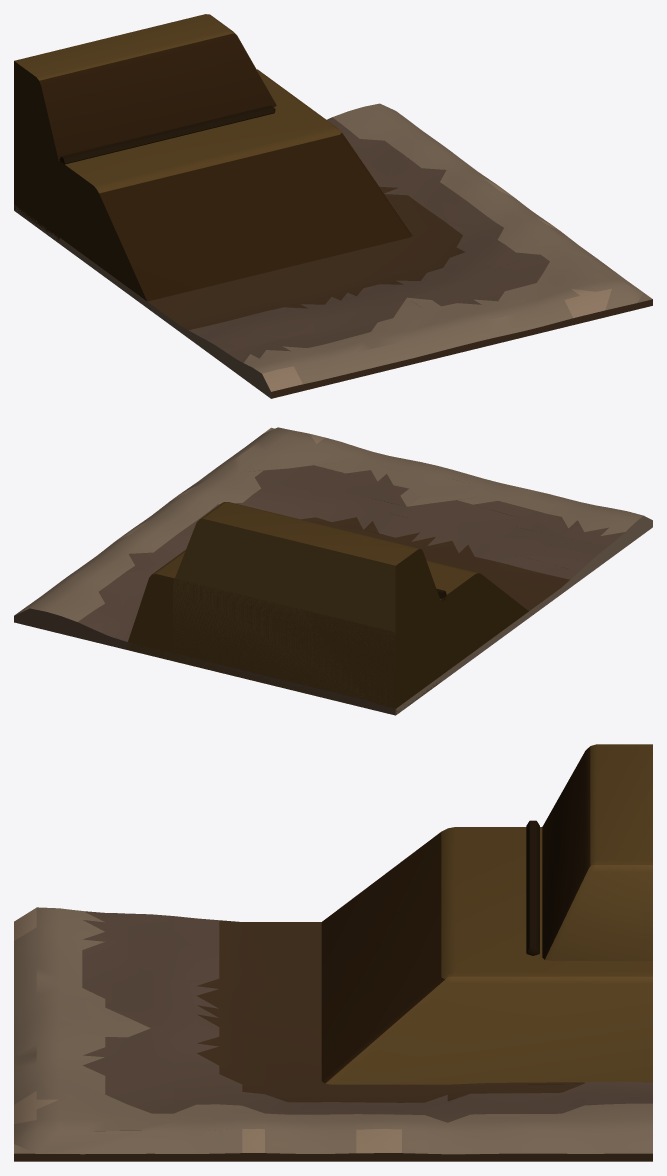
3 renders of one model, top to bottom at view 1: azimuth 30°, elevation 25°; view 2: azimuth 150°, elevation 25°; view 3: azimuth 270°, elevation 25°, orthographic. The views are drawn at different scales.
Parts seen in each view (by area): view 1: pyramid_193_sand, pyramid_193_tier0, pyramid_193_tier1, pyramid_193_course0; view 2: pyramid_193_sand, pyramid_193_tier1, pyramid_193_tier0; view 3: pyramid_193_sand, pyramid_193_tier0, pyramid_193_tier1, pyramid_193_course0.
Boxes of the visible parts, x1,y1,x2,y2 form: pyramid_193_sand: (14, 103, 652, 398); pyramid_193_tier0: (14, 69, 412, 309); pyramid_193_tier1: (14, 14, 276, 241); pyramid_193_course0: (59, 105, 275, 164); pyramid_193_sand: (14, 427, 652, 715); pyramid_193_tier1: (173, 502, 441, 714); pyramid_193_tier0: (125, 550, 533, 714); pyramid_193_sand: (14, 907, 652, 1161); pyramid_193_tier0: (321, 827, 652, 1084); pyramid_193_tier1: (542, 744, 652, 960); pyramid_193_course0: (526, 820, 539, 955).
Bounding box in the file's own units: 24 × 9 × 28.
